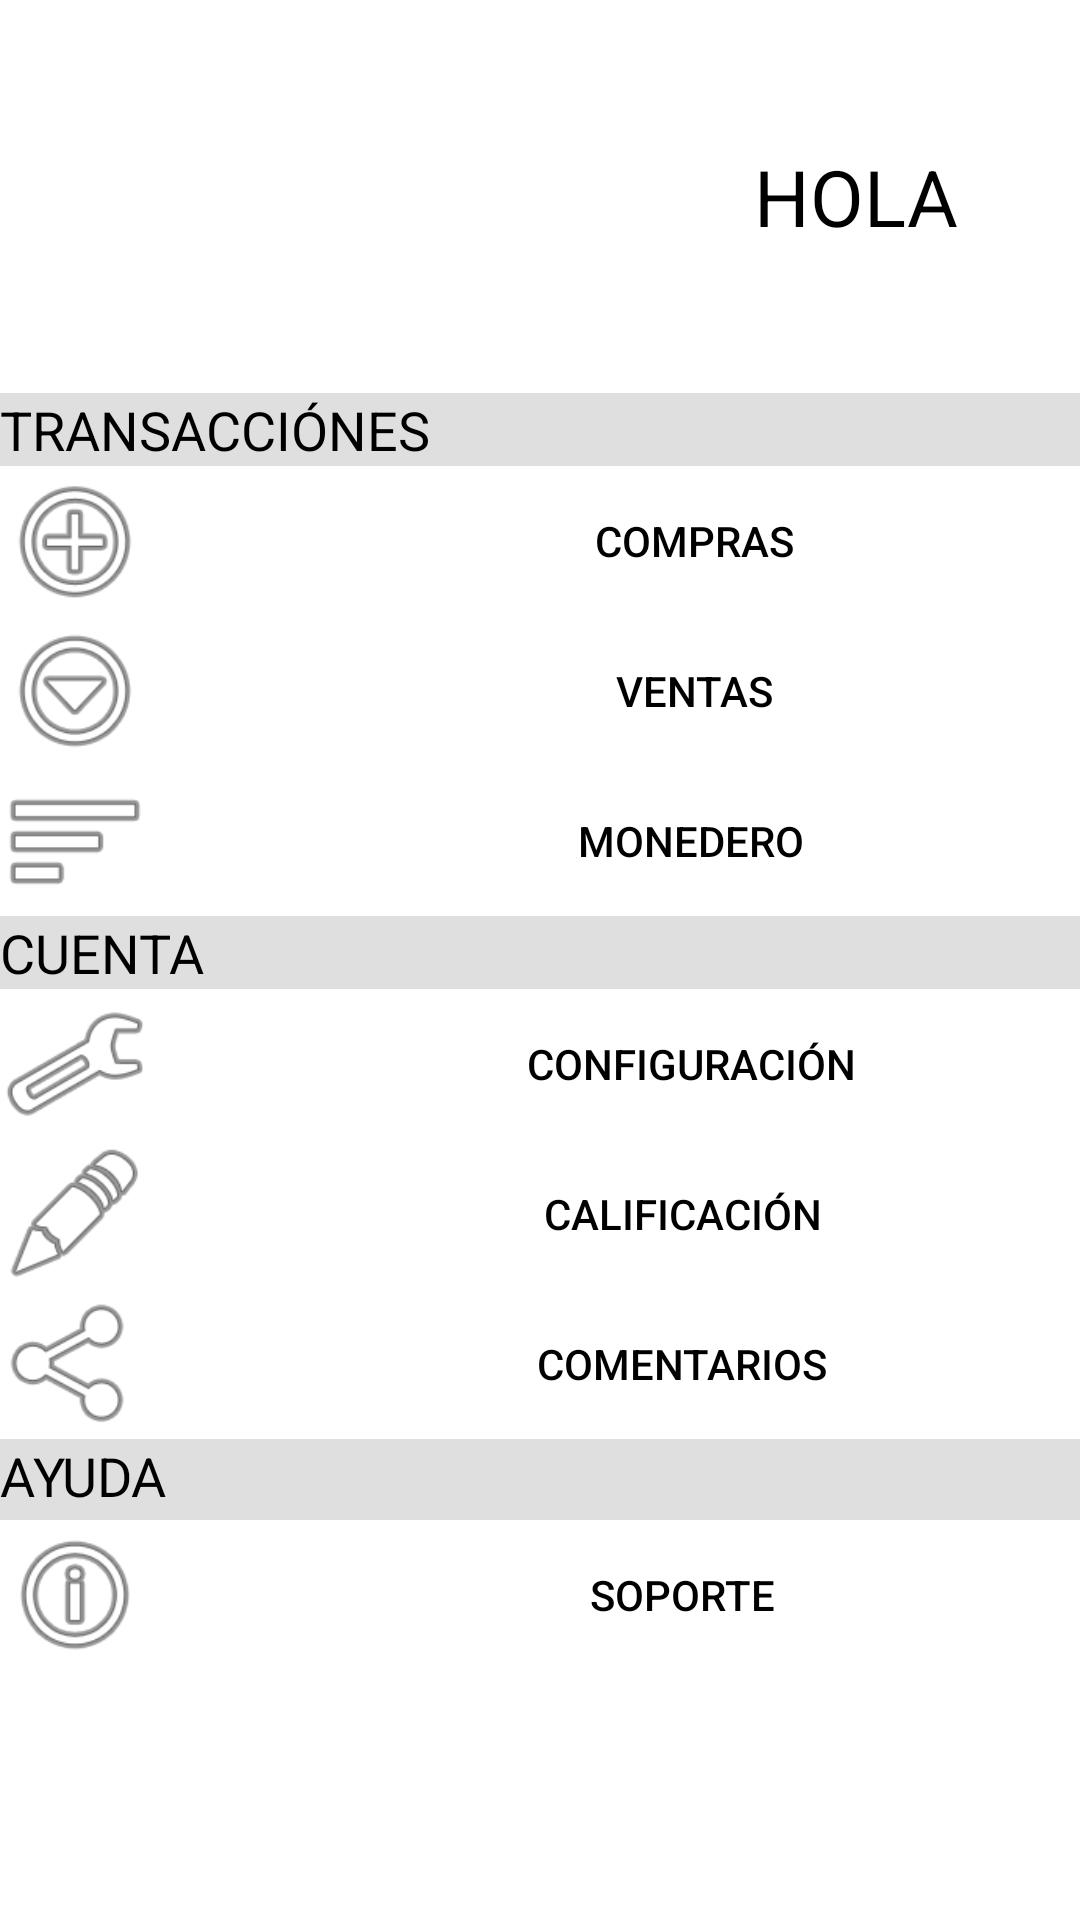

Screen size 1080px×1920px. Icon name, then its box in pixels as BBox(x1, y1, x2, y2):
add: BBox(19, 486, 131, 598)
edit: BBox(11, 1149, 138, 1277)
info details: BBox(21, 1541, 129, 1649)
preferences: BBox(7, 1012, 143, 1116)
share: BBox(11, 1304, 124, 1422)
sort by size: BBox(10, 800, 140, 884)
